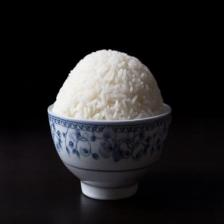rice: (51, 48, 164, 119)
